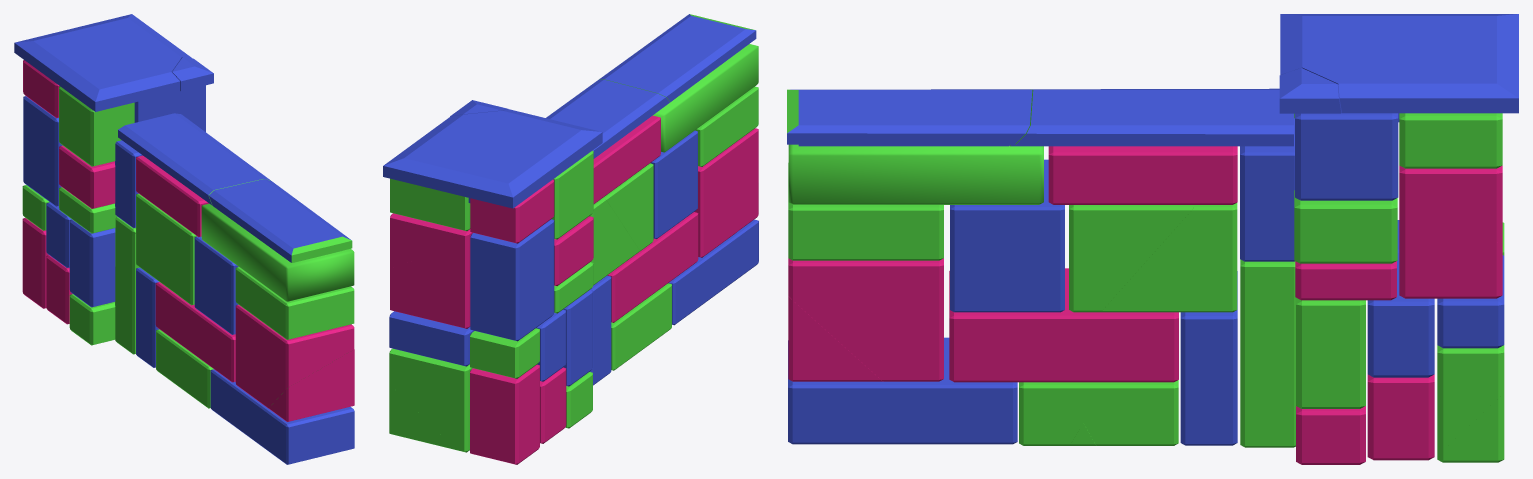
File: stonegate.fbx
The picture shows the model from 3 angles, left to right: view 1: azimuth 30°, elevation 25°; view 2: azimuth 150°, elevation 25°; view 3: azimuth 270°, elevation 25°; orthographic projection. The views are drawn at different scales.
Visible parts, largest first — view 1: stone_gate, stone_gate.002, stone_gate.001, stone_gate.003, stone_gate.009, stone_gate.008, stone_gate.004, stone_gate.011, stone_gate.013; view 2: stone_gate, stone_gate.002, stone_gate.001, stone_gate.008, stone_gate.003, stone_gate.006, stone_gate.011, stone_gate.010; view 3: stone_gate, stone_gate.001, stone_gate.002, stone_gate.004, stone_gate.003, stone_gate.008, stone_gate.009, stone_gate.005, stone_gate.013, stone_gate.006, stone_gate.011, stone_gate.012 (+1 smaller).
Boxes of the visible parts, x1,y1,x2,y2 form: stone_gate: [14, 14, 354, 464]; stone_gate.002: [209, 179, 352, 262]; stone_gate.001: [201, 203, 354, 301]; stone_gate.003: [235, 267, 354, 339]; stone_gate.009: [268, 349, 354, 421]; stone_gate.008: [148, 202, 196, 305]; stone_gate.004: [134, 85, 205, 131]; stone_gate.011: [172, 57, 213, 91]; stone_gate.013: [115, 217, 135, 266]; stone_gate: [383, 79, 758, 464]; stone_gate.002: [599, 14, 756, 102]; stone_gate.001: [653, 44, 758, 152]; stone_gate.008: [603, 163, 653, 251]; stone_gate.003: [695, 86, 758, 166]; stone_gate.006: [389, 384, 455, 449]; stone_gate.011: [450, 100, 507, 116]; stone_gate.010: [390, 238, 415, 267]; stone_gate: [788, 14, 1518, 460]; stone_gate.001: [788, 144, 1043, 204]; stone_gate.002: [787, 89, 1032, 146]; stone_gate.004: [1295, 113, 1398, 200]; stone_gate.003: [788, 163, 943, 260]; stone_gate.008: [1069, 205, 1194, 312]; stone_gate.009: [788, 296, 882, 381]; stone_gate.005: [1296, 406, 1365, 464]; stone_gate.013: [1240, 259, 1295, 364]; stone_gate.006: [1437, 393, 1504, 462]; stone_gate.011: [1279, 68, 1341, 113]; stone_gate.012: [1296, 297, 1365, 343].
Bounding box in the file's own units: 158 × 323 × 573.
